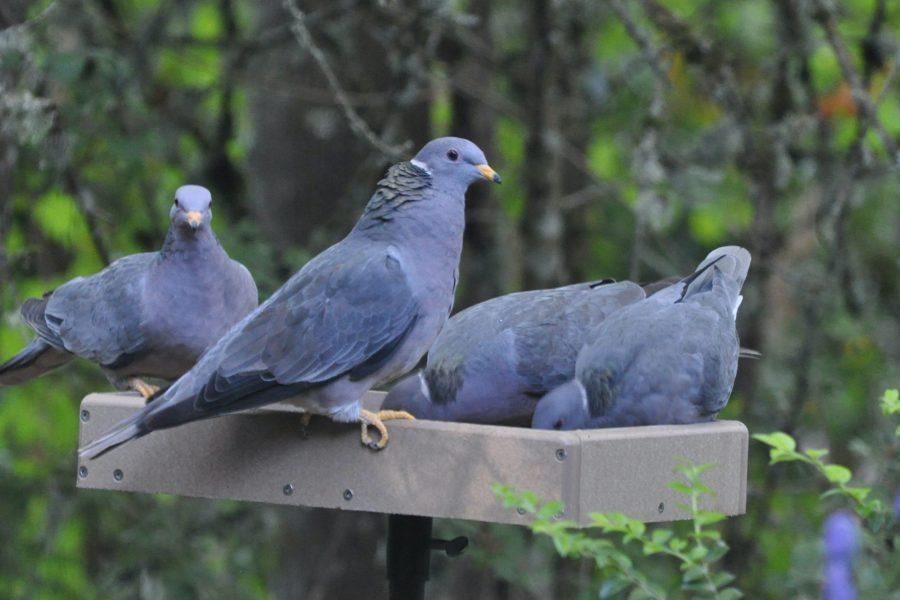Flying Rat: (202, 131, 488, 461), (40, 137, 257, 426), (399, 240, 640, 452), (544, 243, 762, 440)
